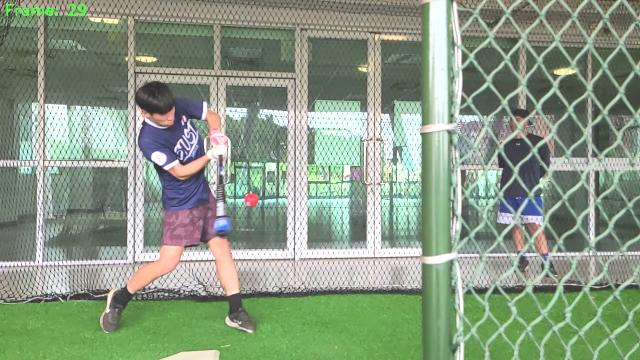bat: (213, 154, 233, 238)
